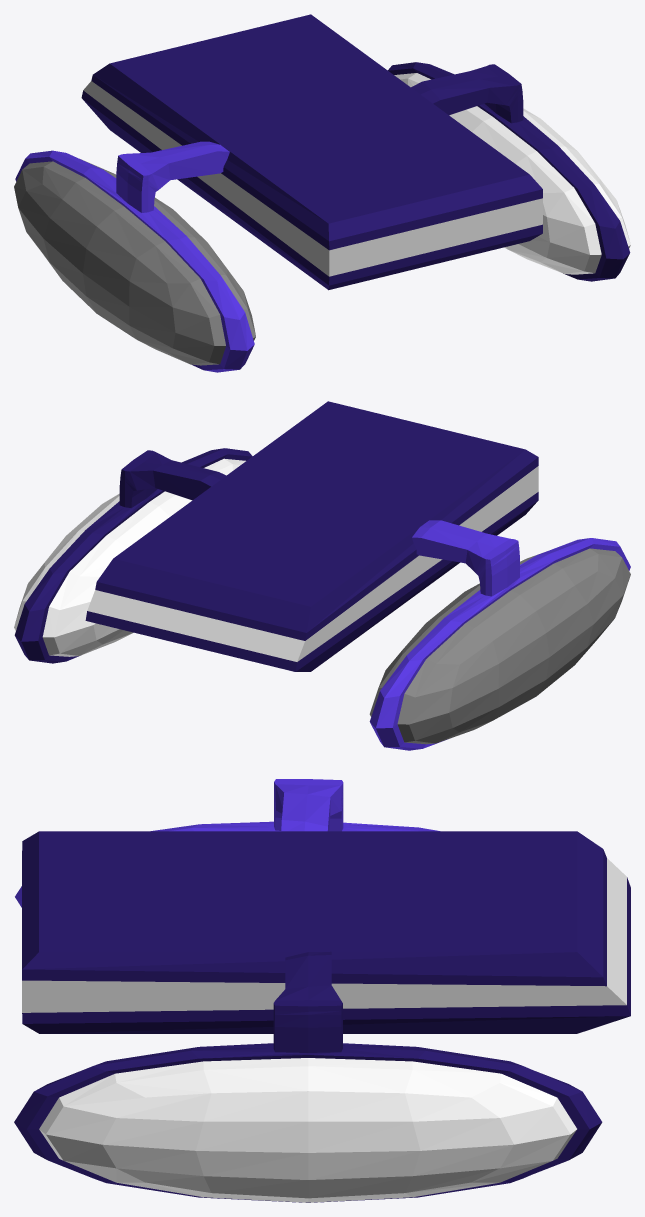
Rendered from Platform_Floating_One_Retexture.fbx.
3 views of the same model, one above another, from view 1: azimuth 30°, elevation 25°; view 2: azimuth 150°, elevation 25°; view 3: azimuth 270°, elevation 25° (orthographic). The views are drawn at different scales.
Parts seen in each view (by area): view 1: group4_pasted__pCube4; view 2: group4_pasted__pCube4; view 3: group4_pasted__pCube4.
Part boxes in pixels (x1=…): group4_pasted__pCube4: x1=14, y1=14, x2=630, y2=372; group4_pasted__pCube4: x1=14, y1=401, x2=630, y2=750; group4_pasted__pCube4: x1=14, y1=779, x2=630, y2=1202.
Size of the model in its own units: 1633 by 541 by 1507.
